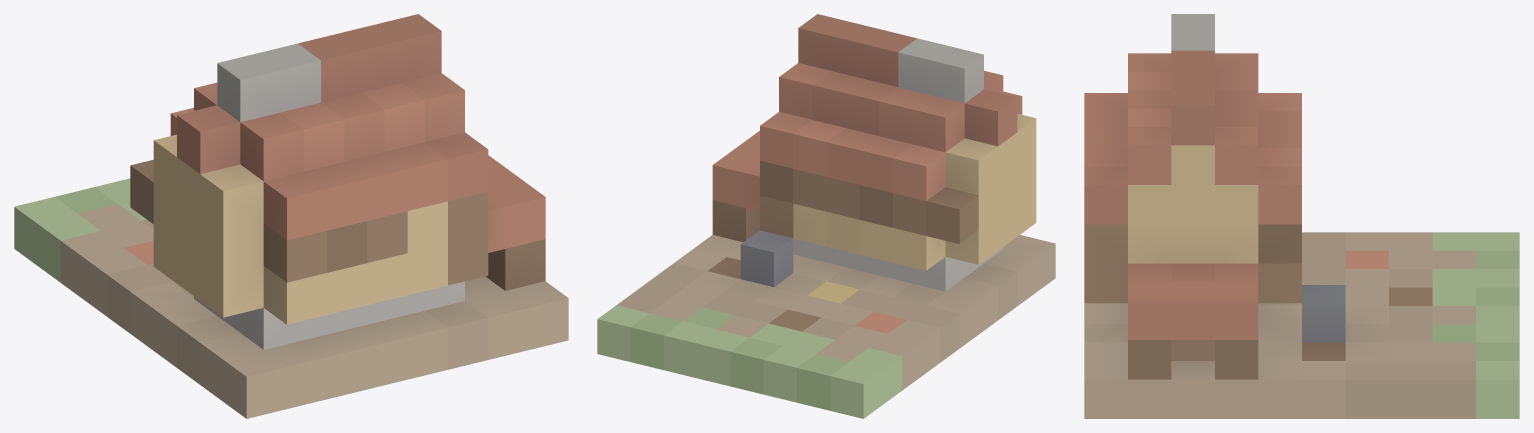
The model's file is meadery.lite.glb.
The picture shows the model from 3 angles, left to right: view 1: azimuth 30°, elevation 25°; view 2: azimuth 150°, elevation 25°; view 3: azimuth 270°, elevation 25°; orthographic projection. The views are drawn at different scales.
Parts seen in each view (by area): view 1: meadery; view 2: meadery; view 3: meadery.
Boxes of the visible parts, bbox=[...] form: meadery: bbox=[14, 14, 568, 418]; meadery: bbox=[597, 14, 1055, 418]; meadery: bbox=[1084, 14, 1519, 418].
Bounding box in the file's own units: 4 × 3.5 × 5.
